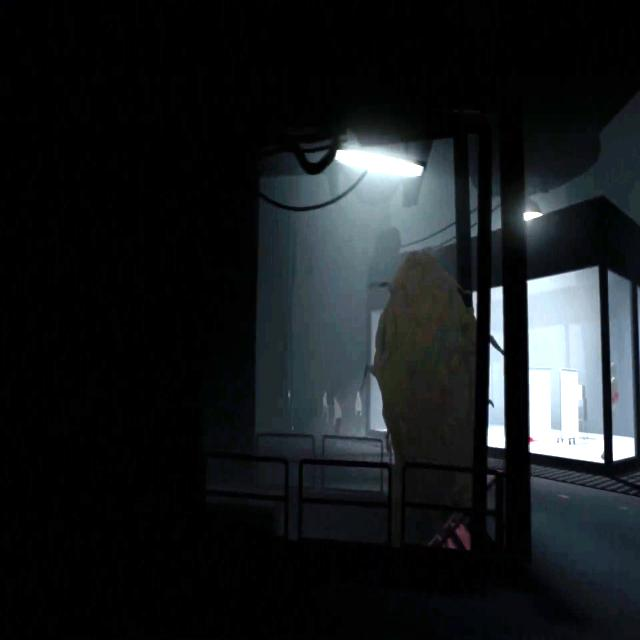blob: (362, 251, 475, 491)
human: (354, 386, 363, 432), (321, 389, 330, 430), (333, 395, 341, 436)
structure: (399, 461, 501, 561), (298, 458, 393, 556), (198, 456, 290, 555), (320, 433, 386, 503), (257, 431, 317, 490)
